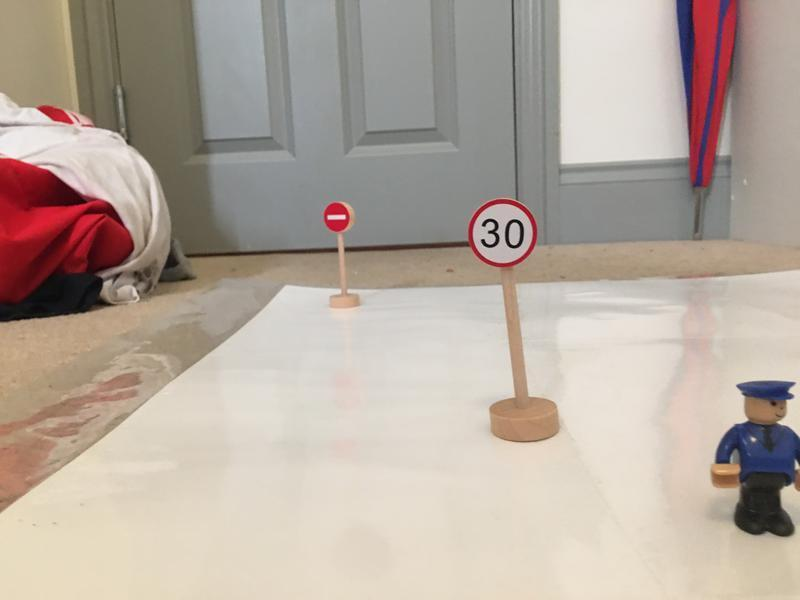Traffic_Sign_30: (469, 201, 535, 266)
Traffic_Sign_No_Entry: (324, 203, 349, 232)
person: (712, 379, 800, 537)
